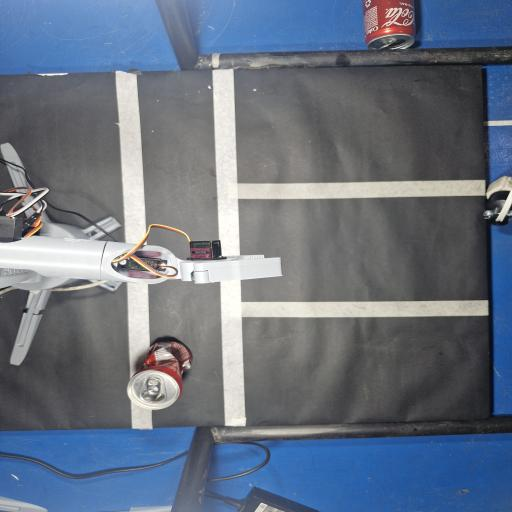lata_defectuoso: (127, 338, 192, 409)
